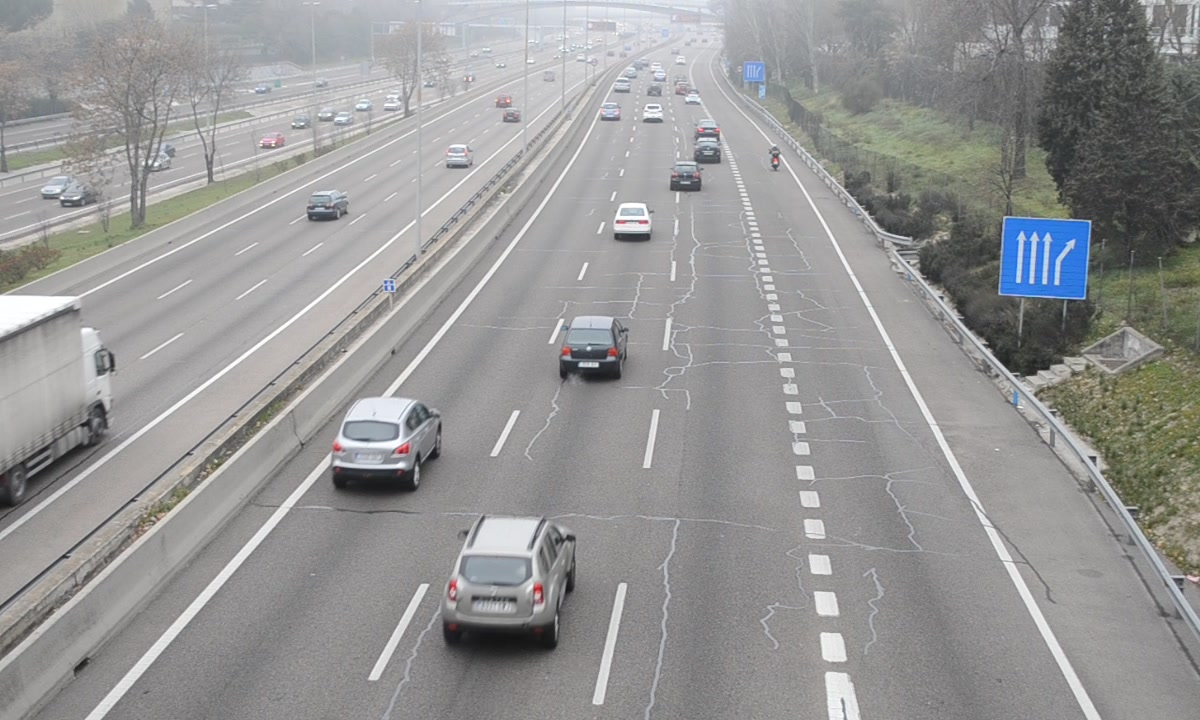car: (444, 517, 576, 631), (332, 398, 442, 474), (560, 316, 627, 377), (613, 201, 653, 236), (672, 161, 702, 192), (695, 138, 723, 162), (696, 119, 722, 140)
motorcycle: (770, 145, 783, 173)
